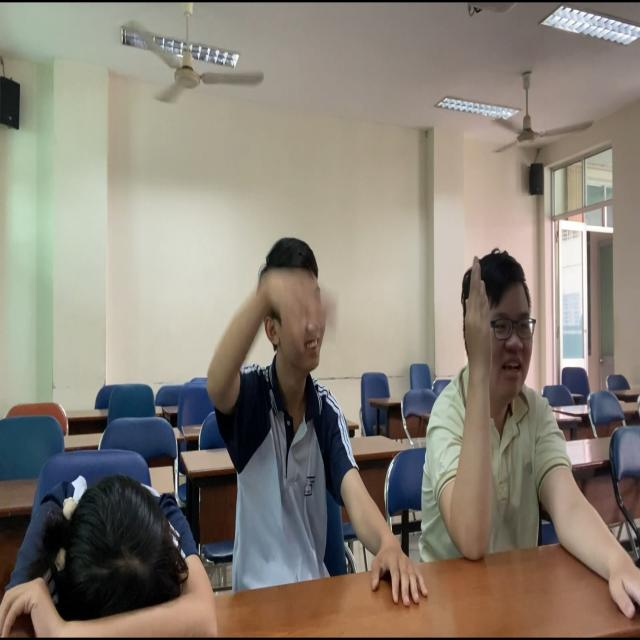raise_hand: (436, 237, 597, 576)
sleep: (1, 473, 223, 640)
